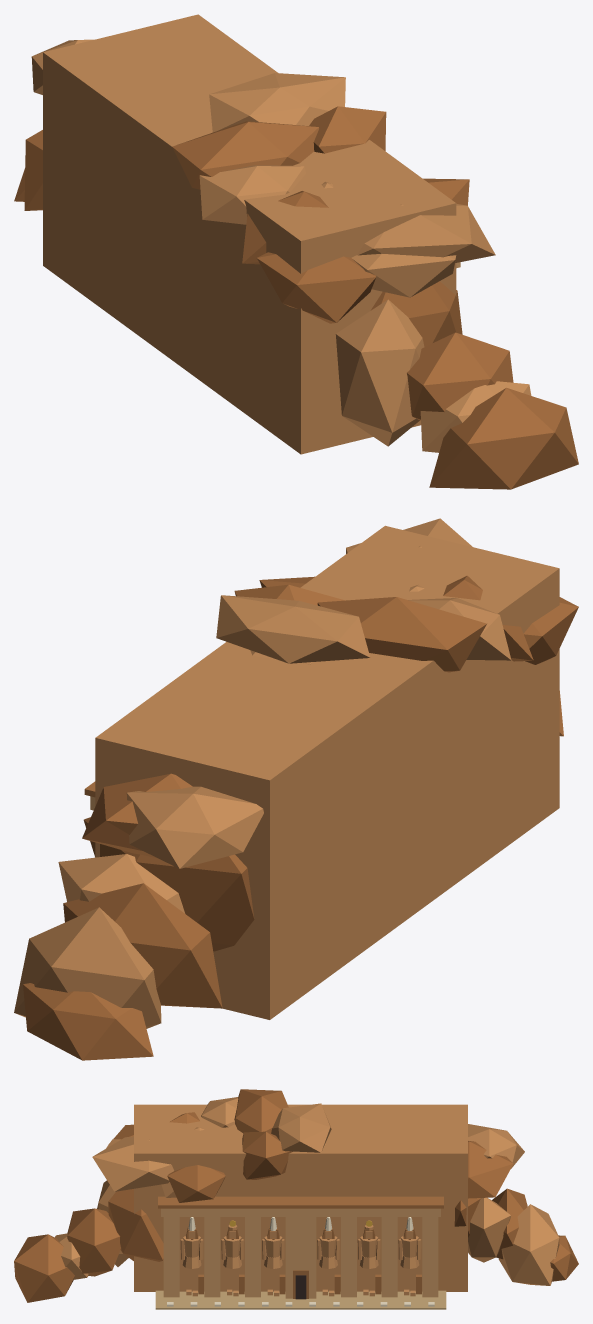
The model's file is abusimbel.glb.
3 renders of one model, top to bottom at view 1: azimuth 30°, elevation 25°; view 2: azimuth 150°, elevation 25°; view 3: azimuth 270°, elevation 25°, orthographic. The views are drawn at different scales.
Visible parts, largest first — view 1: abusimbel; view 2: abusimbel; view 3: abusimbel.
Part boxes in pixels (x1,y1,x2,y2): abusimbel: (14,14,578,489); abusimbel: (14,518,578,1060); abusimbel: (14,1089,578,1309).
Size of the model in its own units: 25.32 by 25.9 by 77.83.
